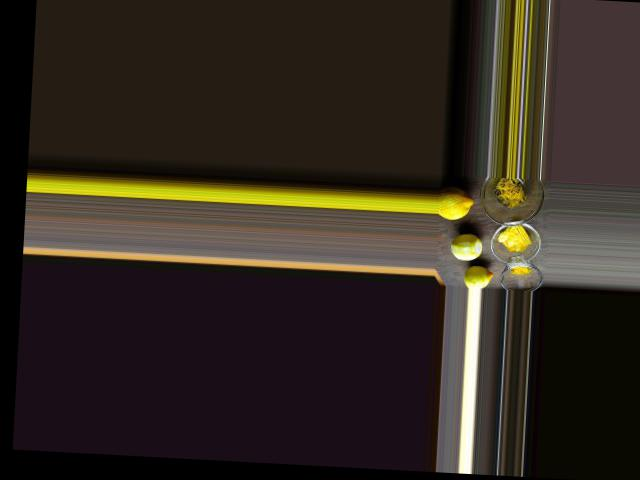lemon: (439, 188, 478, 220)
